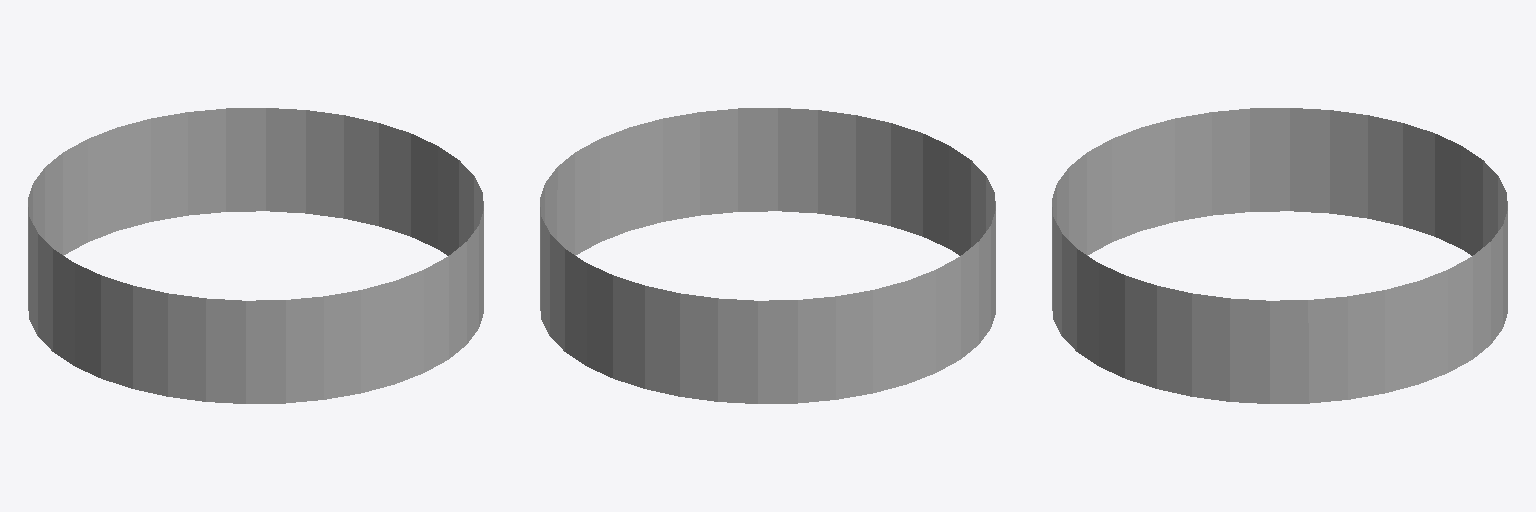
File: original-72.obj
3 views of the same model, side by side, from view 1: azimuth 30°, elevation 25°; view 2: azimuth 150°, elevation 25°; view 3: azimuth 270°, elevation 25° (orthographic).
Parts seen in each view (by area): view 1: #ID365; view 2: #ID365; view 3: #ID365.
Boxes of the visible parts, x1=… form: #ID365: x1=28, y1=108, x2=483, y2=403; #ID365: x1=540, y1=108, x2=995, y2=403; #ID365: x1=1052, y1=108, x2=1507, y2=403.
Bounding box in the file's own units: 0.0464 × 0.0116 × 0.0464.